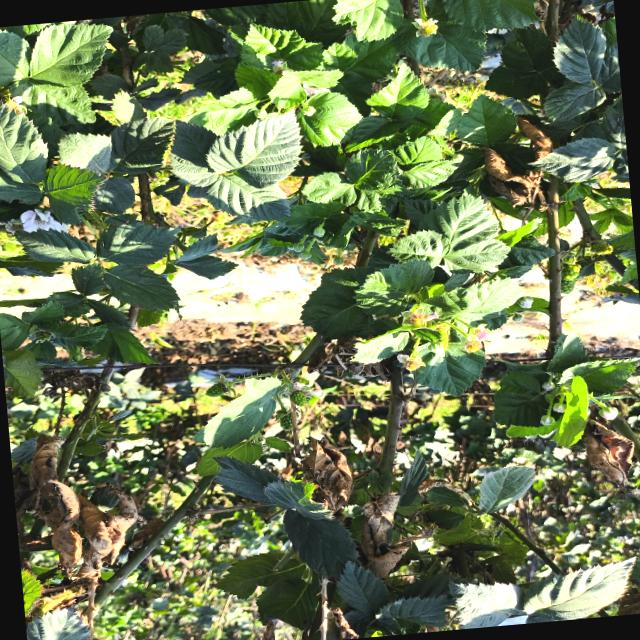boton: (517, 296, 533, 308), (313, 226, 325, 237), (292, 243, 304, 252), (333, 255, 343, 265), (300, 251, 311, 259), (512, 314, 523, 322)
